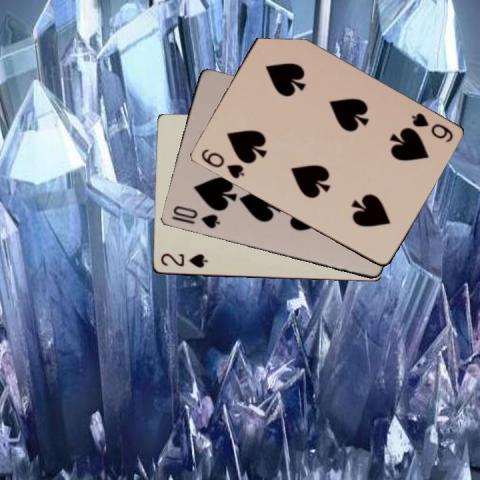10s: (170, 203, 221, 230)
2s: (158, 251, 209, 270)
6s: (198, 145, 246, 180), (408, 110, 455, 144)
